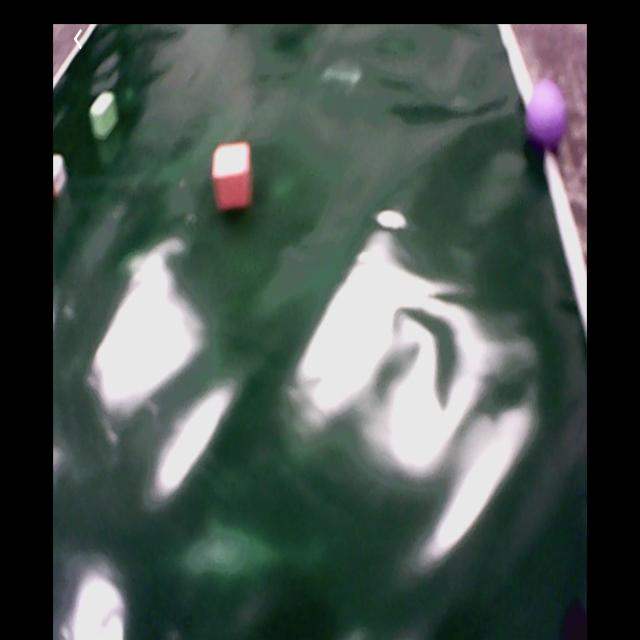ball: (526, 79, 565, 148)
